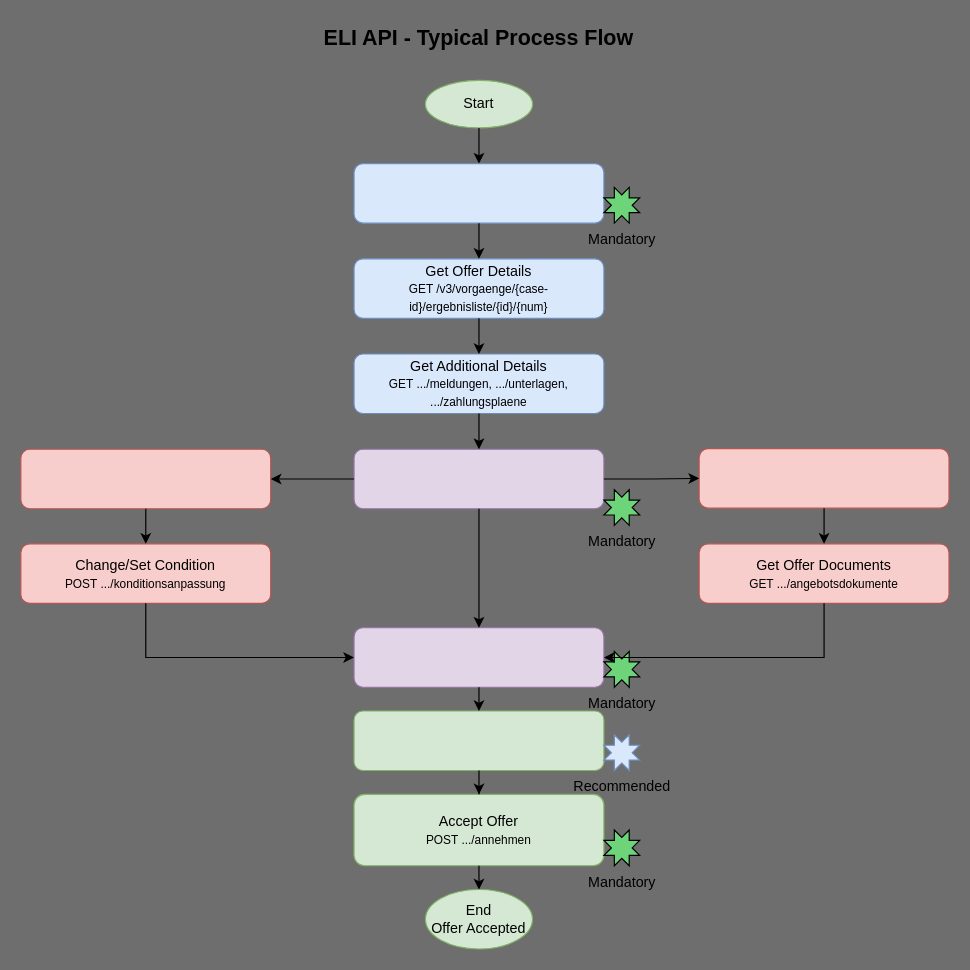
Image size: 970x970. Some labels were removed from this diagram. Here are the shapes that lost their labels. From the top down, the centre of each, then its label:
[478,192]: Calculate New Offers POST /v3/vorgaenge/{case-id}/ergebnisliste
[145,478]: Get Condition Information GET .../konditionsanpassung
[478,478]: Save Specific Offer POST .../merken
[823,477]: Create Finanzierungsvorschlag POST .../finanzierungsvorschlagsdokumente
[478,657]: Set as Recommended PATCH .../gemerkteangebote/{num}
[478,740]: Validate Offer POST .../pruefen
